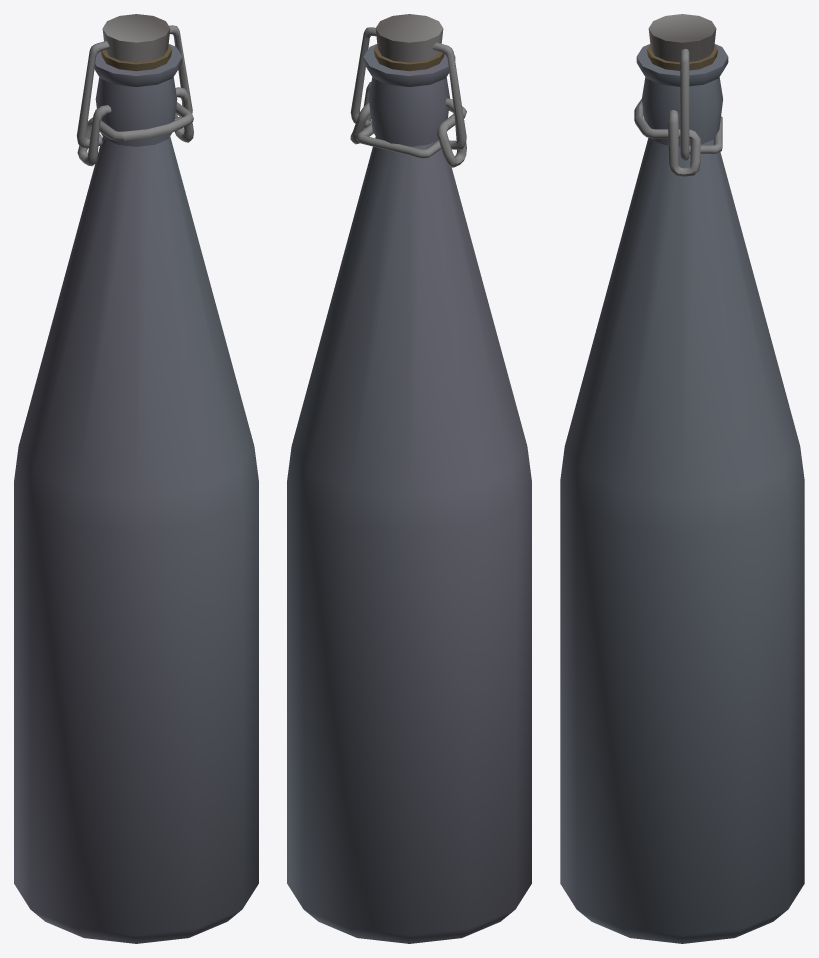
Rendered from Bottle.fbx.
3 views of the same model, side by side, from view 1: azimuth 30°, elevation 25°; view 2: azimuth 150°, elevation 25°; view 3: azimuth 270°, elevation 25° (orthographic).
Parts seen in each view (by area): view 1: Цилиндр.022; view 2: Цилиндр.022; view 3: Цилиндр.022.
Boxes of the visible parts, box(x1,y1,x2,y2) form: Цилиндр.022: box(14, 14, 258, 943); Цилиндр.022: box(287, 14, 531, 943); Цилиндр.022: box(560, 14, 804, 943).
Size of the model in its own units: 21.62 by 84.85 by 21.58.
